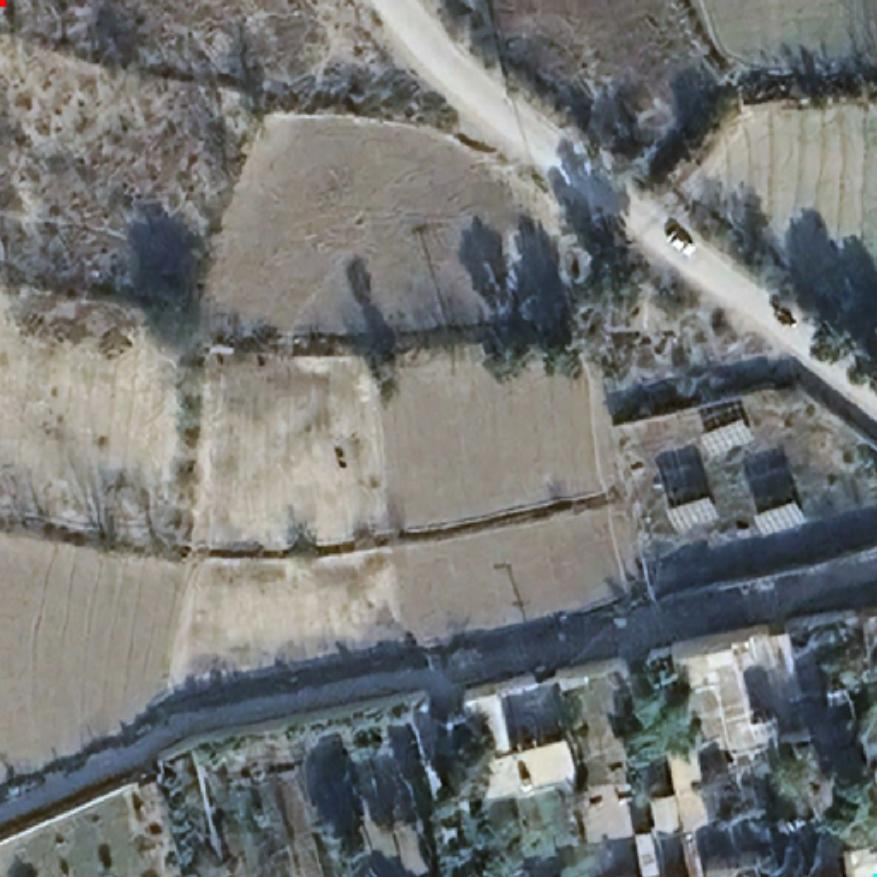Solarpanel: (661, 494, 723, 539), (696, 417, 757, 455), (753, 498, 809, 539)
